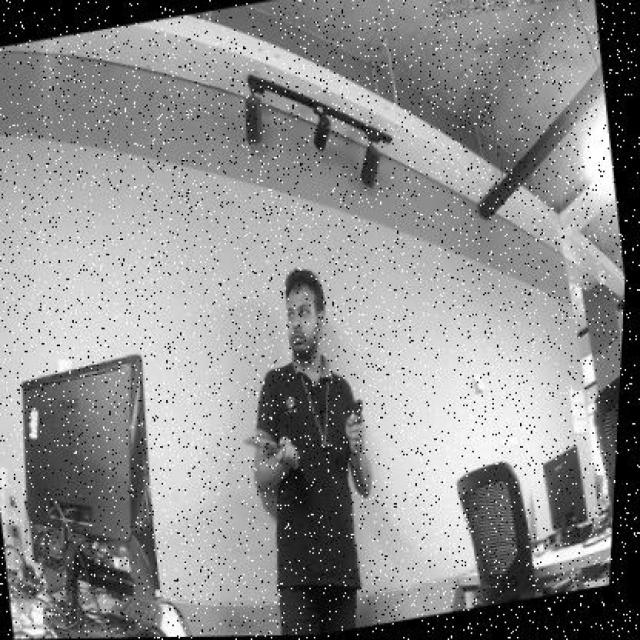weapon: (345, 401, 367, 427)
